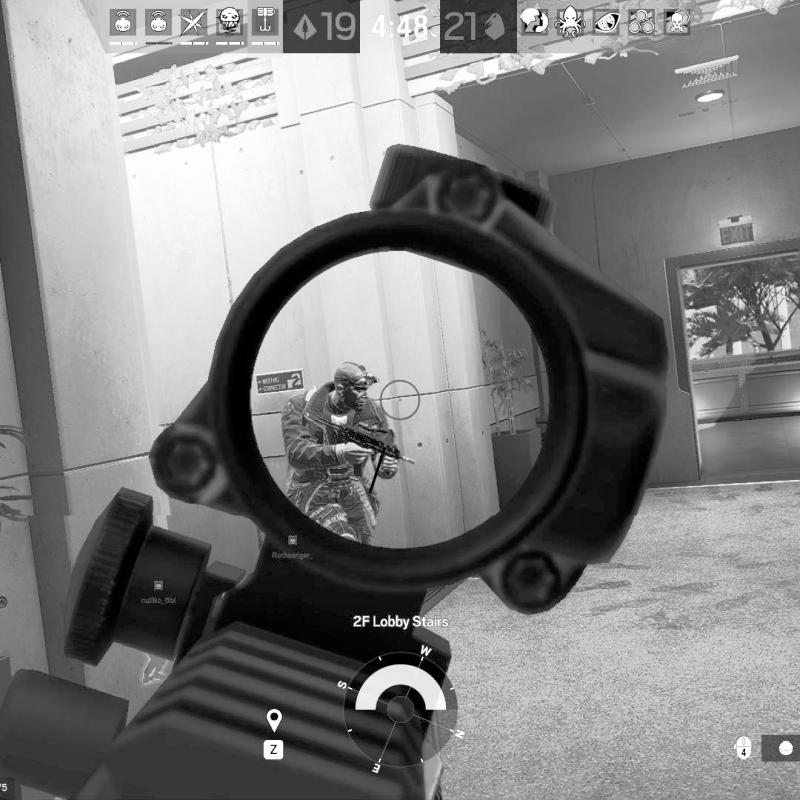Character: (280, 360, 420, 548)
Friend_label: (273, 533, 311, 559), (142, 579, 178, 605)
Head: (332, 360, 372, 411)
